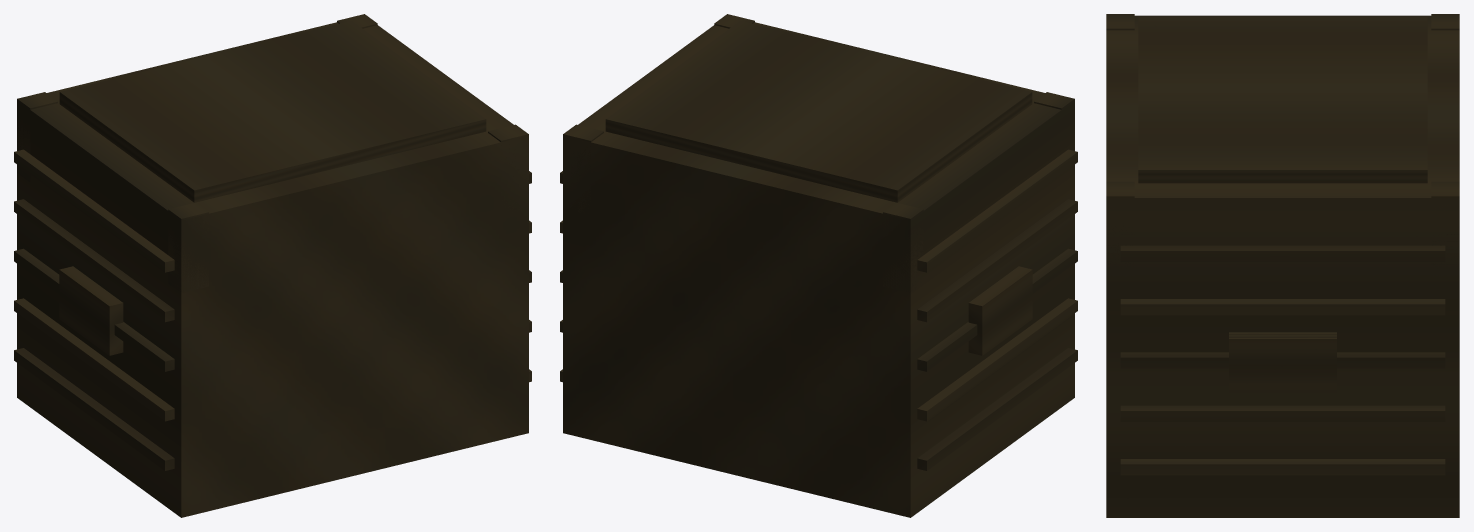
Rendered from prop_crate_metal_a.glb.
3 renders of one model, left to right at view 1: azimuth 30°, elevation 25°; view 2: azimuth 150°, elevation 25°; view 3: azimuth 270°, elevation 25°, orthographic. The views are drawn at different scales.
Visible parts, largest first — view 1: prop_crate_metal_a; view 2: prop_crate_metal_a; view 3: prop_crate_metal_a.
Part boxes in pixels (left/top/right/bottom): prop_crate_metal_a: left=14, top=14, right=531, bottom=517; prop_crate_metal_a: left=560, top=14, right=1077, bottom=517; prop_crate_metal_a: left=1106, top=14, right=1459, bottom=517.
Bounding box in the file's own units: 0.955 × 0.75 × 0.72.
1 material, 1 textured.
